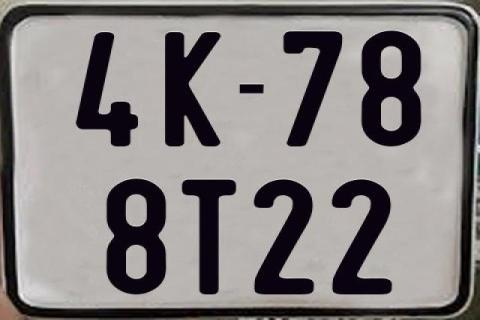0: (103, 177, 170, 296), (75, 30, 141, 150), (252, 177, 316, 297), (330, 179, 395, 295), (361, 29, 423, 147), (280, 31, 341, 147)
K: (162, 32, 222, 148)
T: (180, 177, 236, 296)
